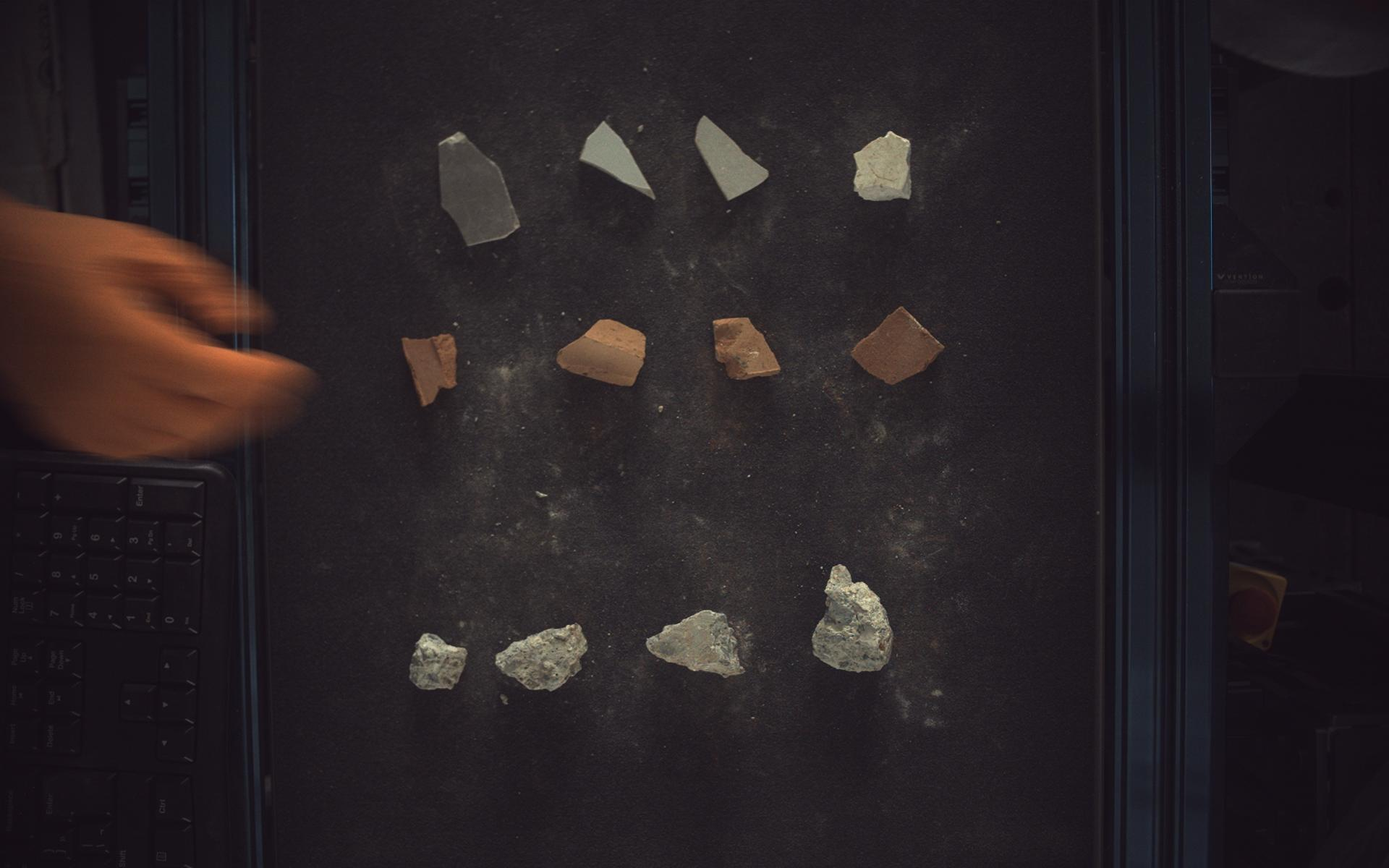brick: (853, 307, 946, 385), (558, 319, 647, 386), (714, 318, 782, 380), (402, 333, 457, 407)
concrete: (814, 565, 895, 673), (647, 611, 746, 678), (496, 625, 588, 692), (409, 634, 467, 692)
tile: (438, 131, 520, 245), (697, 115, 770, 200), (580, 120, 655, 199), (856, 131, 913, 200)
